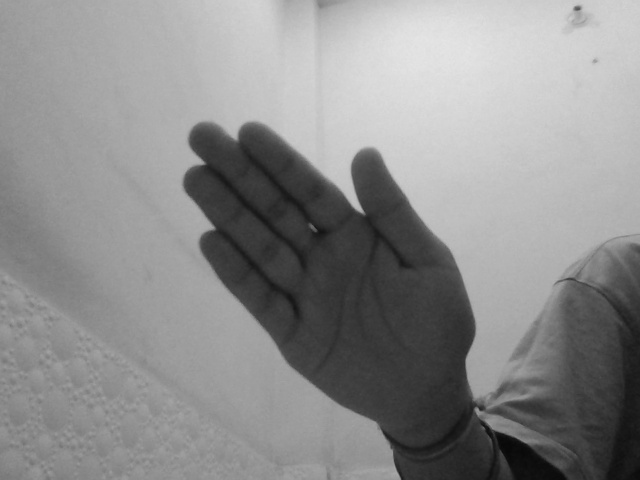Hello: (179, 117, 480, 440)
